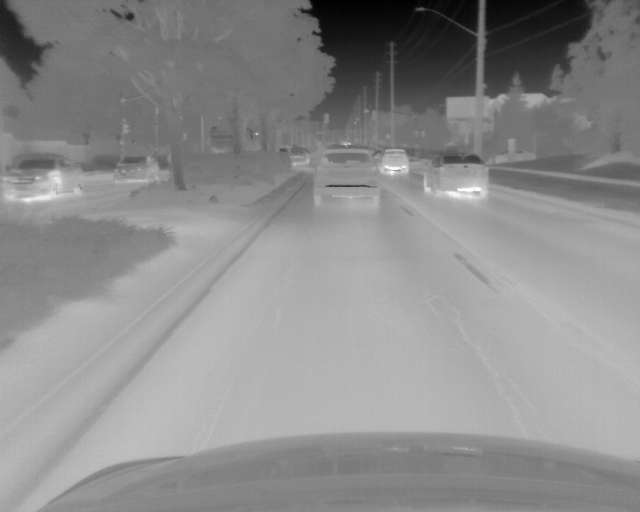car: (2, 154, 84, 200), (315, 149, 379, 207), (424, 154, 487, 196), (111, 156, 159, 181), (383, 150, 407, 172)
